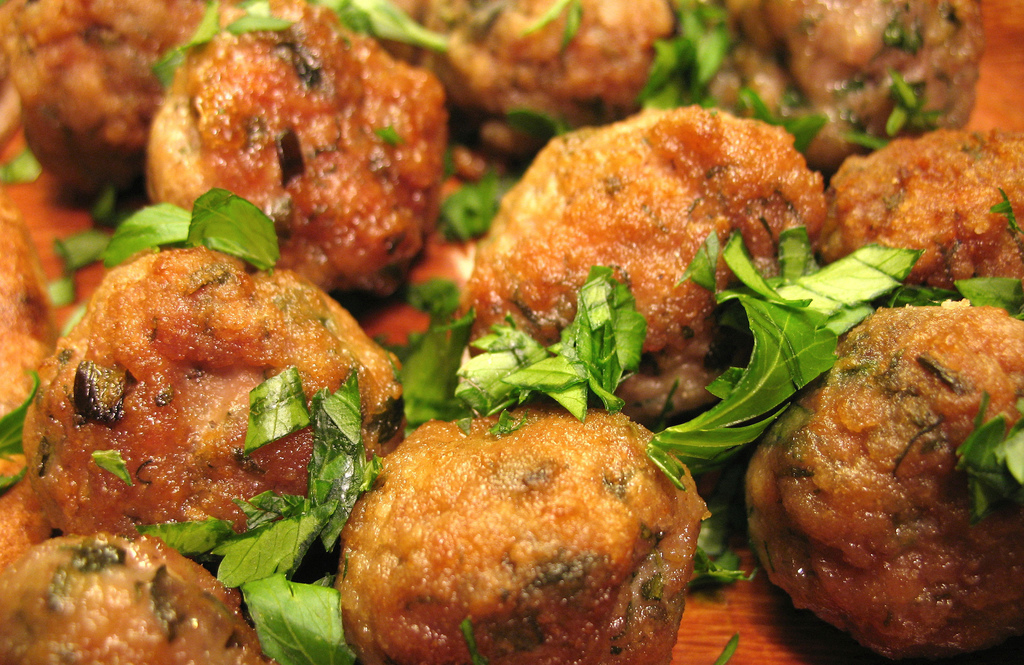meatballs: (35, 263, 420, 560), (475, 115, 836, 413), (749, 294, 1024, 631), (346, 418, 709, 665), (139, 16, 445, 296), (813, 122, 1024, 321)
